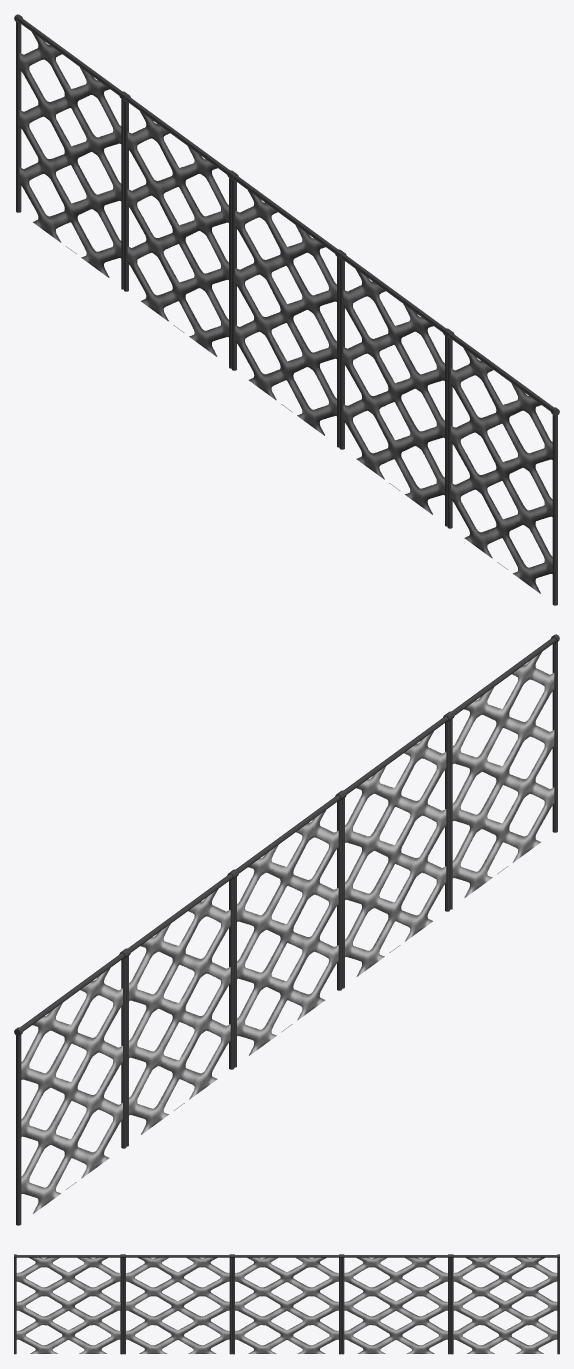
File: Fence_5x.fbx
3 views of the same model, one above another, from view 1: azimuth 30°, elevation 25°; view 2: azimuth 150°, elevation 25°; view 3: azimuth 270°, elevation 25° (orthographic). The views are drawn at different scales.
Parts seen in each view (by area): view 1: Fence_5x; view 2: Fence_5x; view 3: Fence_5x.
Boxes of the visible parts, x1,y1,x2,y2 form: Fence_5x: [14, 14, 559, 605]; Fence_5x: [14, 634, 559, 1225]; Fence_5x: [14, 1254, 559, 1354].
Size of the model in its own units: 11.19 by 317 by 1576.
